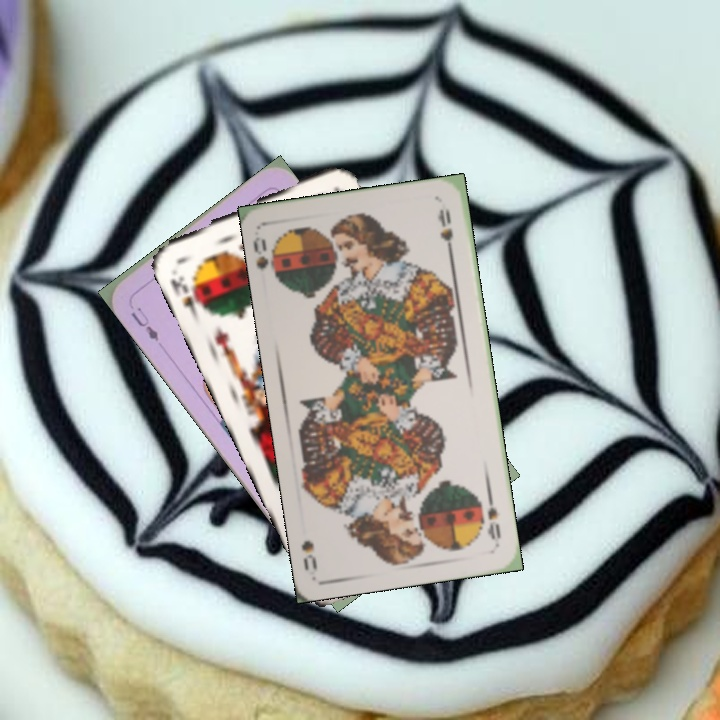EU: (126, 303, 162, 344)
SK: (166, 271, 209, 320)
SO: (250, 232, 284, 286), (483, 488, 504, 542)
